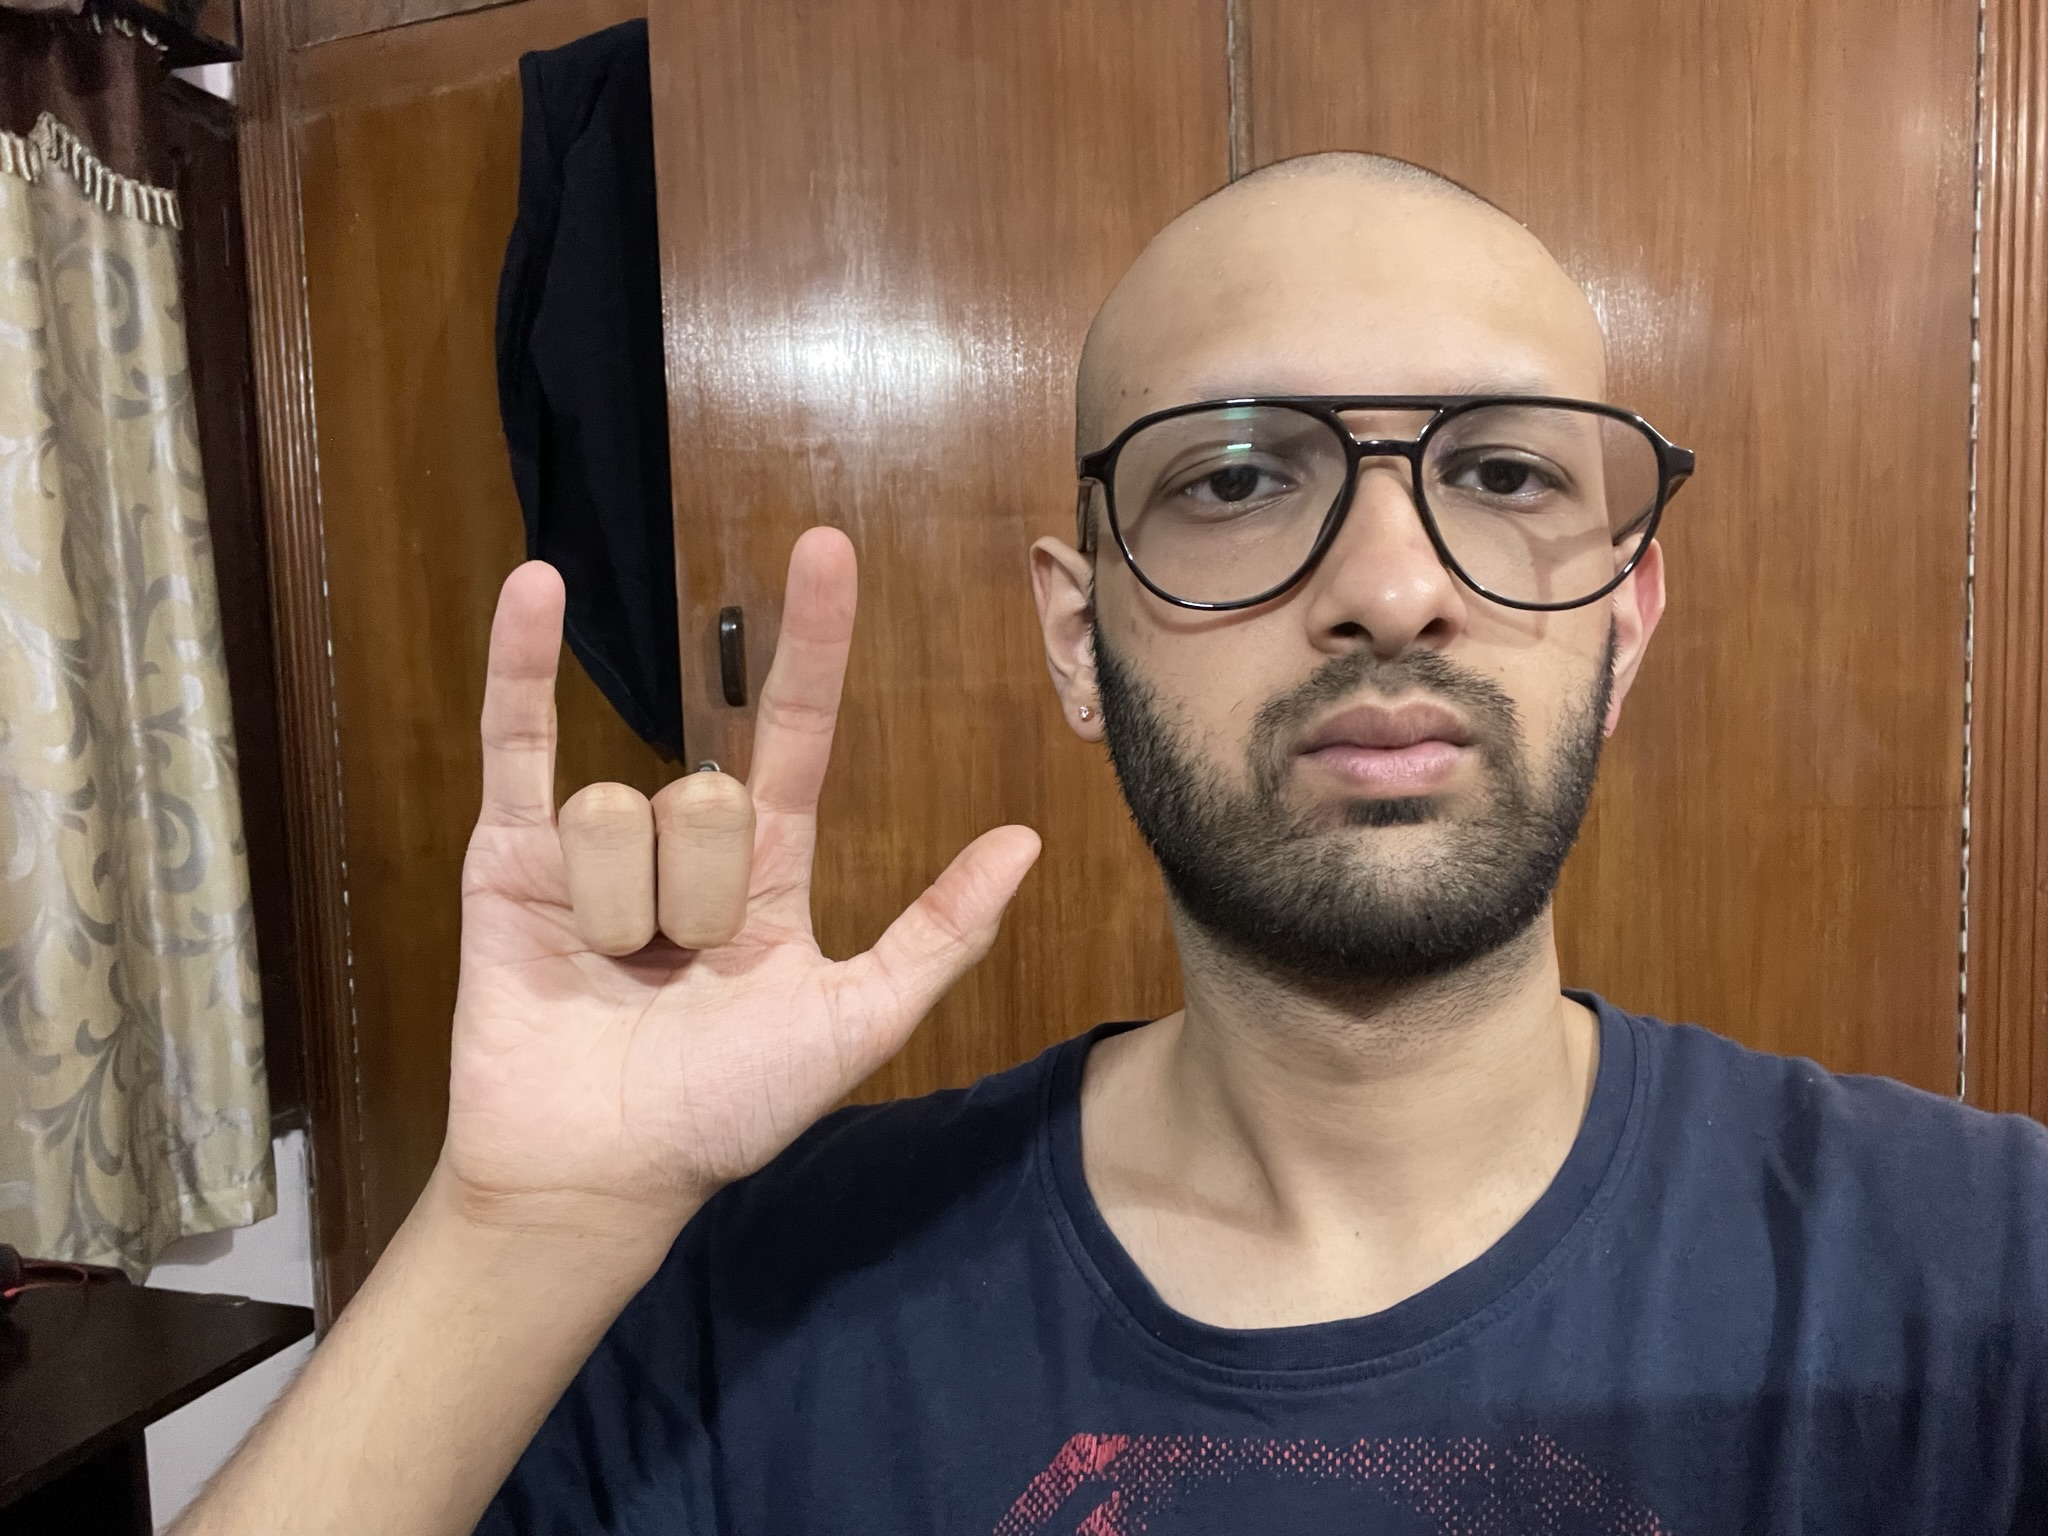I Love You: (440, 520, 1048, 1196)
